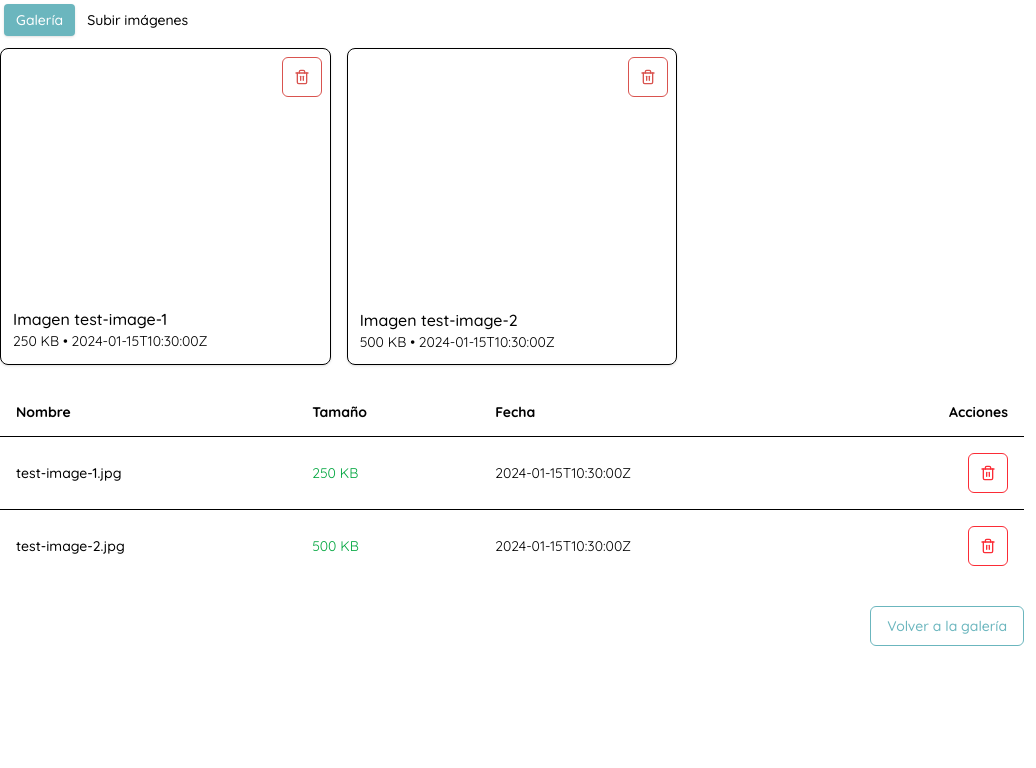
Test case: ImagenUpload › Pestaña de Subir imágenes › debe mostrar el formulario de subida
Step 1. Click the tab "Subir imágenes" → (138, 20), box 75,4 -> 200,36
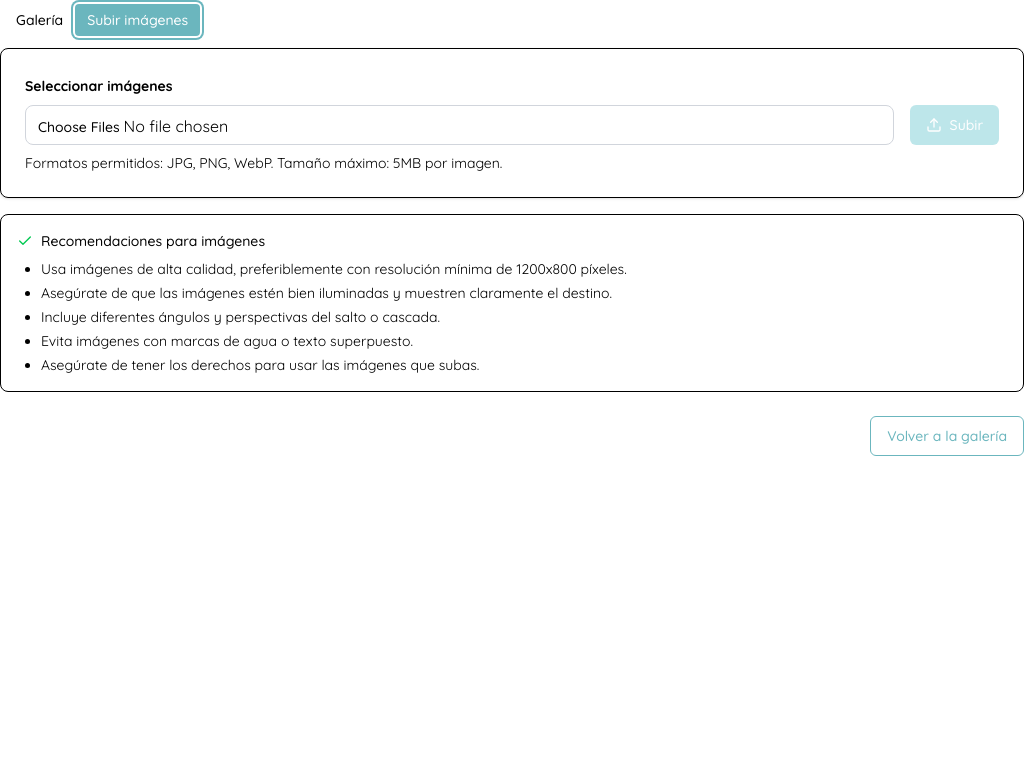
Check: the file field labelled "Seleccionar imágenes" is shown, box 25,105 -> 894,145
Check: the button "Subir" is shown, box 910,105 -> 999,145
